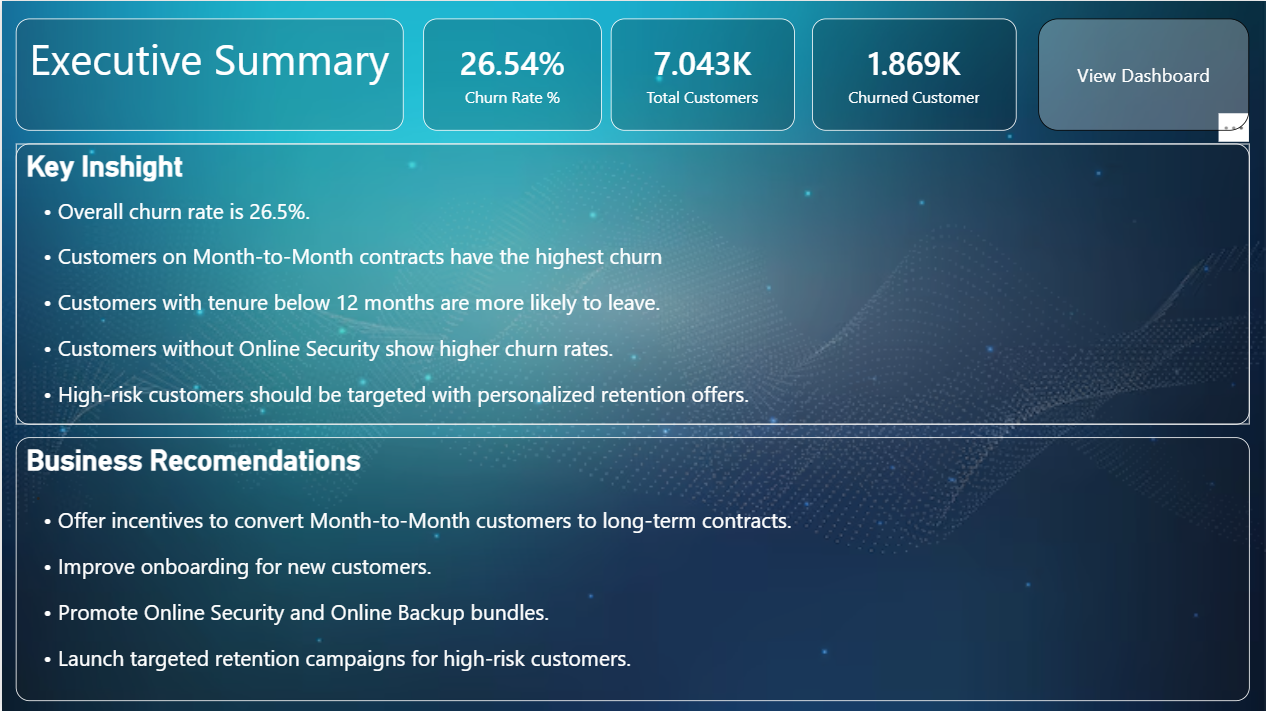

Layout of this report page (visuals, bound fields, positions):
{"tool":"powerbi","page":{"name":"Executive Summary","canvas":[1280,720],"ordinal":0},"visuals":[{"type":"textbox","title":"Key Inshight","box":[13.9,144.3,1249.4,284.8],"z":0},{"type":"cardVisual","fields":{"Data":["Calculated Measure.Churn Rate %"]},"box":[426.6,17.7,181,113.9],"z":1},{"type":"cardVisual","fields":{"Data":["Calculated Measure.Total Customers"]},"box":[616.5,17.7,186.1,113.9],"z":2},{"type":"cardVisual","fields":{"Data":["Calculated Measure.Churned Customer"]},"box":[820.3,17.7,207.6,113.9],"z":3},{"type":"textbox","box":[13.9,17.7,392.4,113.9],"z":4},{"type":"textbox","title":"Business Recomendations","box":[13.9,441.8,1249.4,267.1],"z":5},{"type":"actionButton","title":"View Dashboard","box":[1049.4,17.7,213.9,113.9],"z":6}]}

Visuals, with their boxes in screenshot pixels (x1, y1, x2, y2), scaled from the page's 1280x720 canvas onto the 1266x711 screenshot:
"Key Inshight" textbox: (14,142,1249,424)
cardVisual - Calculated Measure.Churn Rate %: (422,17,601,130)
cardVisual - Calculated Measure.Total Customers: (610,17,794,130)
cardVisual - Calculated Measure.Churned Customer: (811,17,1017,130)
textbox: (14,17,402,130)
"Business Recomendations" textbox: (14,436,1249,700)
"View Dashboard" actionButton: (1038,17,1249,130)
